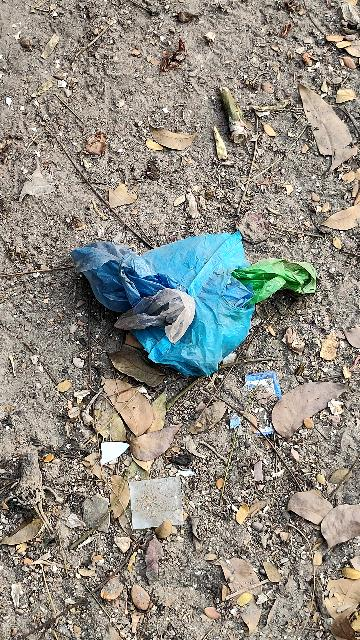polythene: (103, 229, 256, 375)
